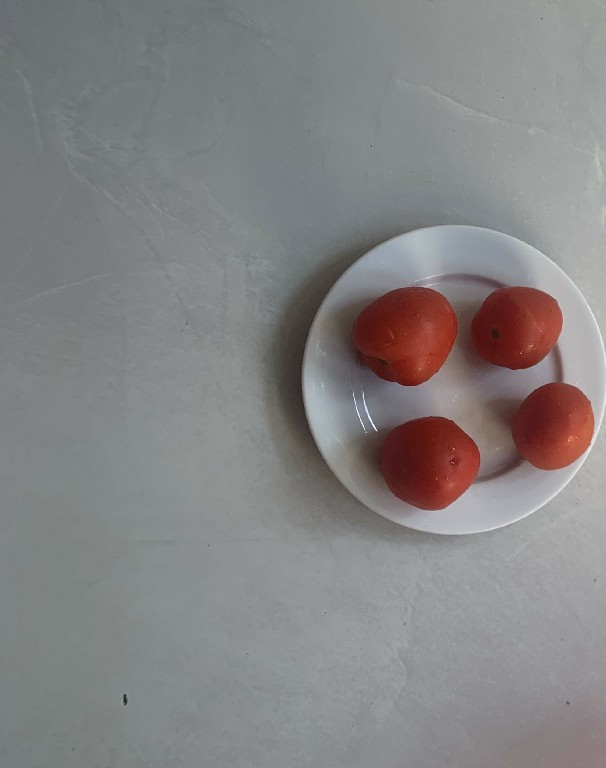OK: (352, 281, 459, 387), (379, 416, 480, 514), (474, 281, 561, 367), (509, 381, 593, 470)
